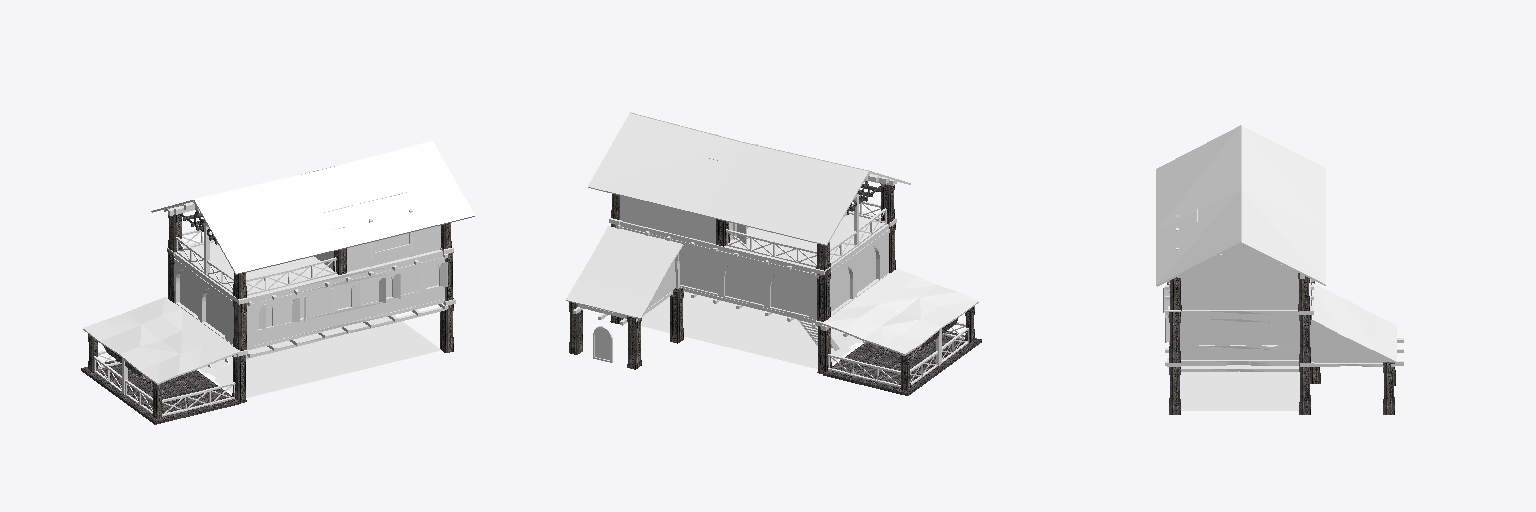
The picture shows the model from 3 angles: view 1: azimuth 30°, elevation 25°; view 2: azimuth 150°, elevation 25°; view 3: azimuth 270°, elevation 25°; orthographic projection.
Parts seen in each view (by area): view 1: house; view 2: house; view 3: house.
Boxes of the visible parts, x1,y1,x2,y2 form: house: [81, 141, 474, 424]; house: [566, 112, 981, 395]; house: [1156, 125, 1403, 414].
Size of the model in its own units: 33.91 by 18.75 by 23.09.
7 materials, 2 textured.